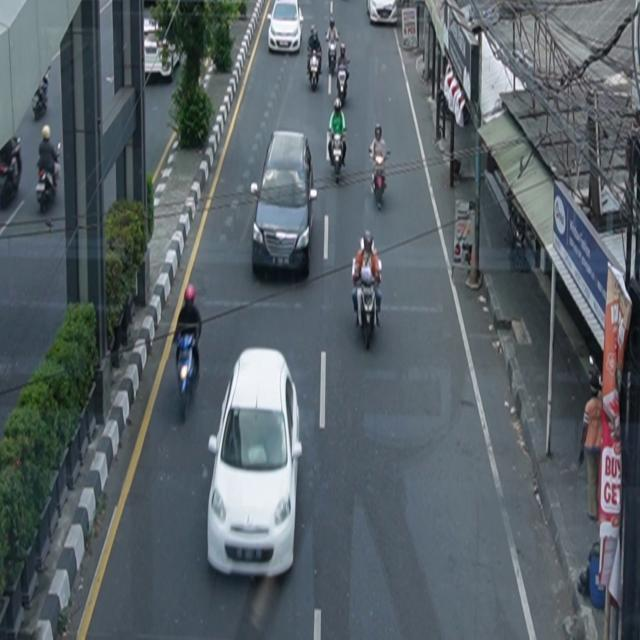car: (208, 347, 304, 579), (251, 130, 318, 279), (268, 1, 305, 55), (367, 1, 398, 26)
